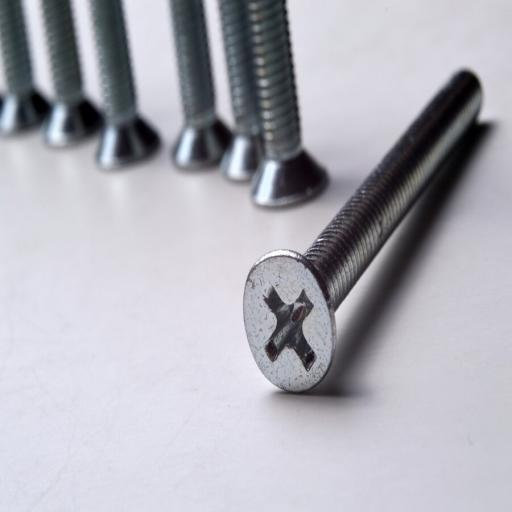Phillips: (245, 245, 338, 406)
